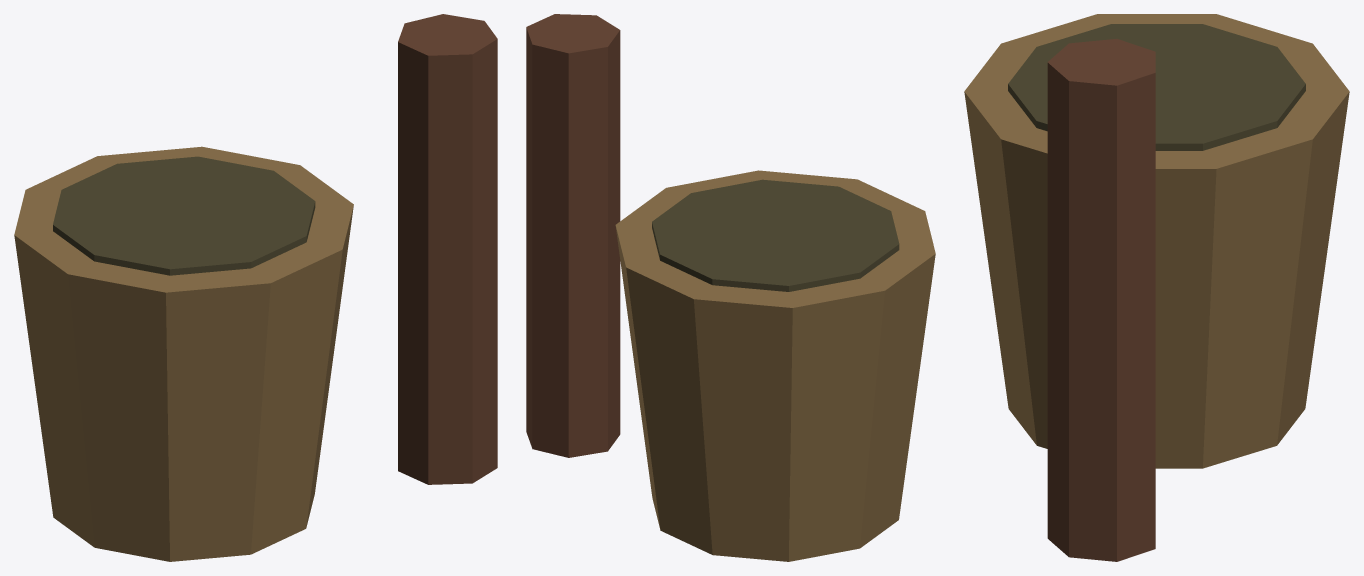
3 renders of one model, left to right at view 1: azimuth 30°, elevation 25°; view 2: azimuth 150°, elevation 25°; view 3: azimuth 270°, elevation 25°, orthographic. The views are drawn at different scales.
Parts seen in each view (by area): view 1: H11_鱼篓与短桩; view 2: H11_鱼篓与短桩; view 3: H11_鱼篓与短桩.
Part boxes in pixels (x1=…): H11_鱼篓与短桩: x1=14, y1=14, x2=497, y2=561; H11_鱼篓与短桩: x1=526, y1=14, x2=935, y2=561; H11_鱼篓与短桩: x1=964, y1=14, x2=1349, y2=561.
Size of the model in its own units: 0.6226 by 0.6 by 0.44.
